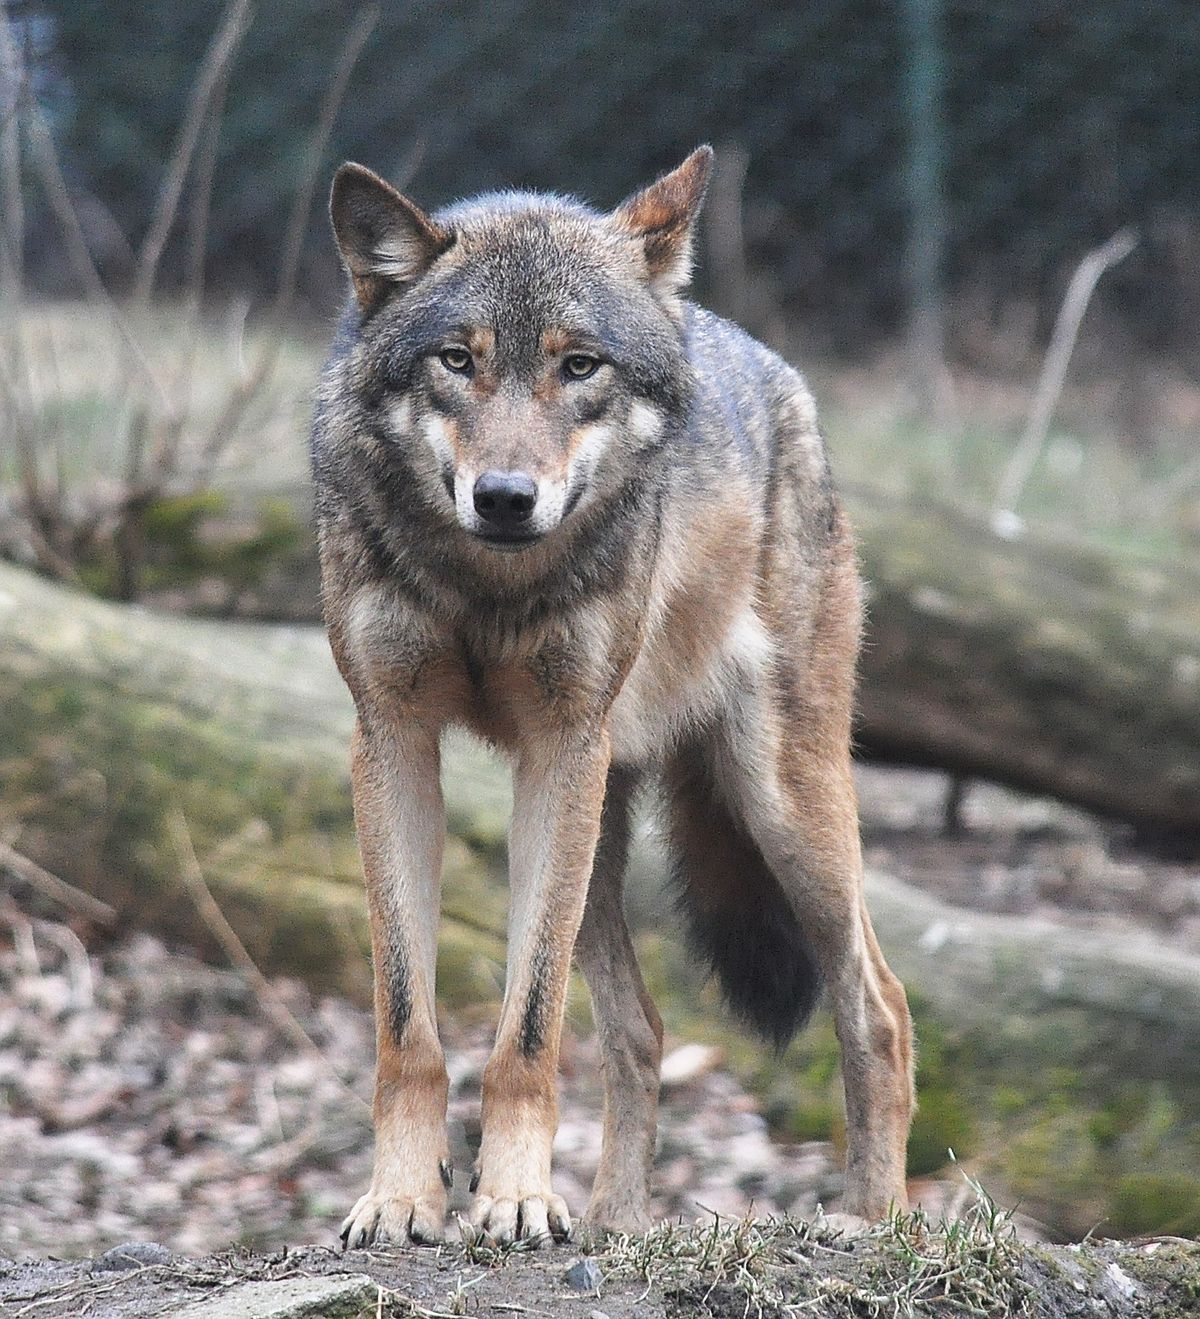wolf: (306, 130, 960, 1254)
